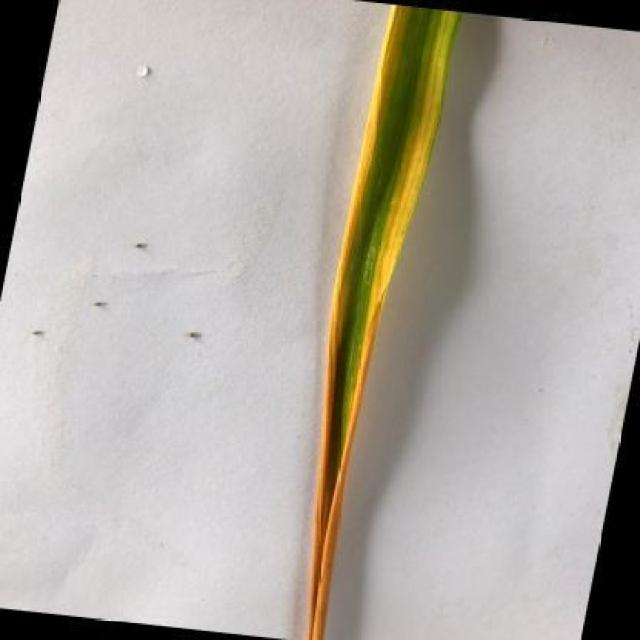Rice False Smut: (308, 6, 460, 639)
